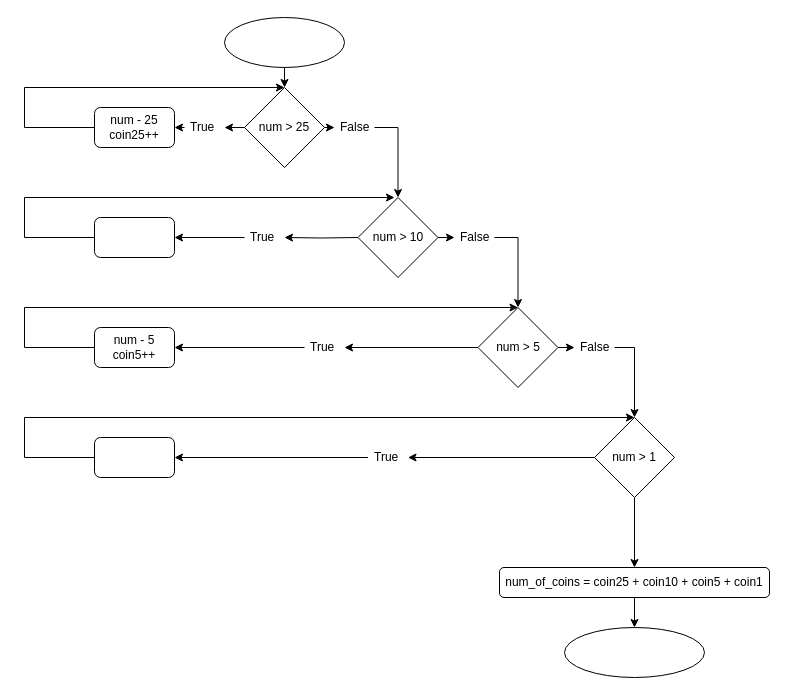
This 787x695 diagram has some shape labels left out. Here are the shapes that lost their labels. From the top down, the centre of each, then its label:
At [284,42]: "Start num = change due".
At [134,237]: "num - 10 coin10++".
At [134,457]: "num - 1 coin1++".
At [634,652]: "Finish return num_of_coins".
